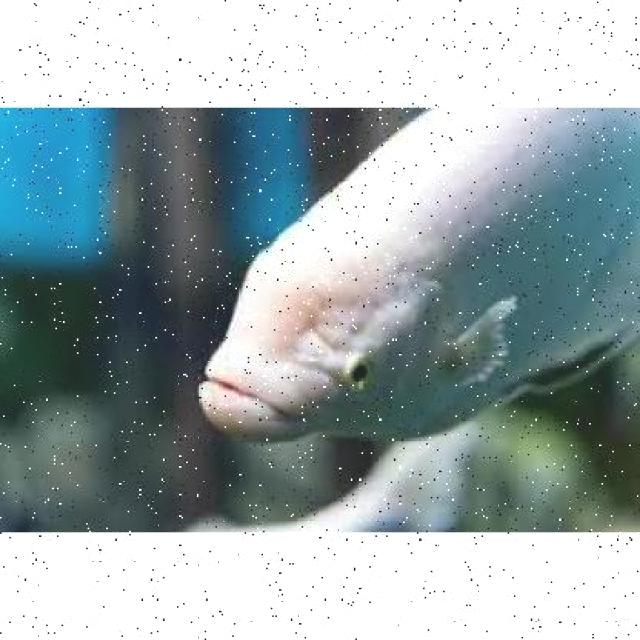gurame: (197, 106, 640, 448)
